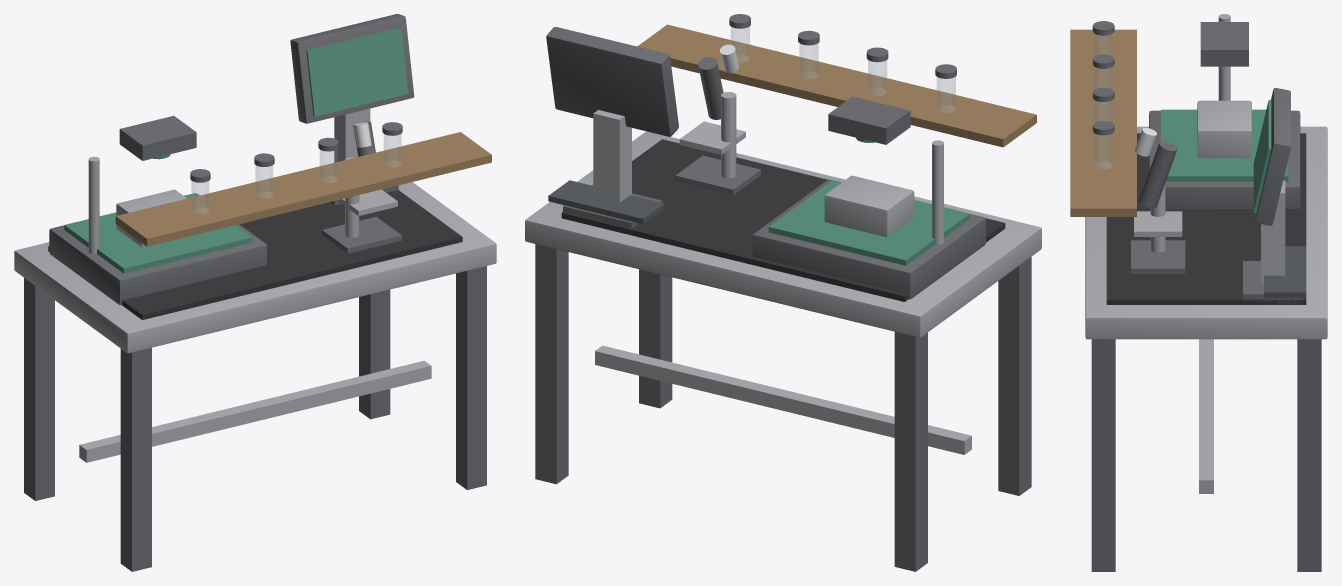
The model's file is DD_research_table.fbx.
The picture shows the model from 3 angles, left to right: view 1: azimuth 30°, elevation 25°; view 2: azimuth 150°, elevation 25°; view 3: azimuth 270°, elevation 25°; orthographic projection. The views are drawn at different scales.
Parts seen in each view (by area): view 1: DD_research_table; view 2: DD_research_table; view 3: DD_research_table.
Part boxes in pixels (left/top/right/bottom): DD_research_table: left=14, top=14, right=496, bottom=571; DD_research_table: left=525, top=14, right=1041, bottom=571; DD_research_table: left=1070, top=14, right=1327, bottom=571.
Size of the model in its own units: 1.5 by 1.57 by 0.85.
